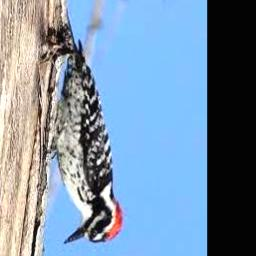Woodpecker: (51, 28, 124, 245)
